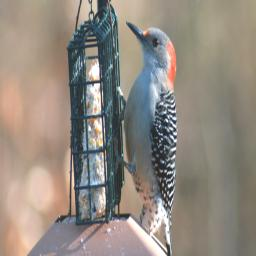Woodpecker: (113, 14, 178, 256)
